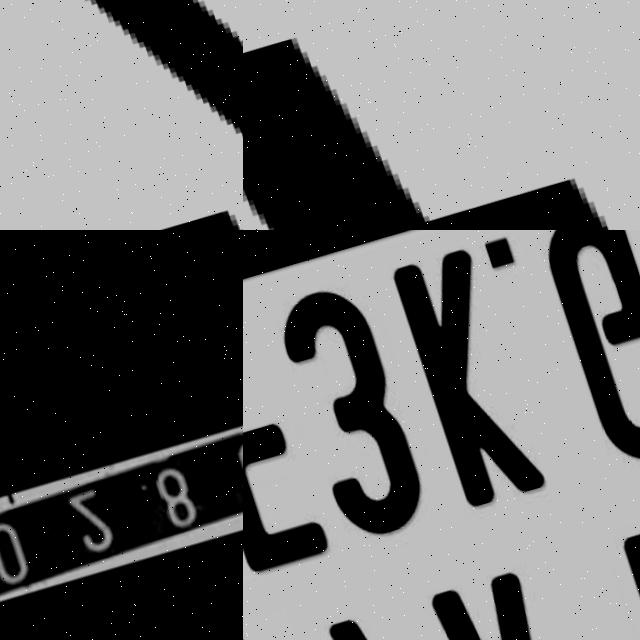0: (0, 518, 30, 593)
2: (56, 489, 113, 563)
3: (267, 275, 431, 548)
7: (0, 0, 243, 230)
8: (142, 463, 200, 538), (224, 435, 243, 510)
A: (420, 565, 589, 640)
F: (243, 0, 640, 230), (243, 308, 323, 576)
G: (530, 230, 640, 475)
K: (386, 243, 542, 510)
